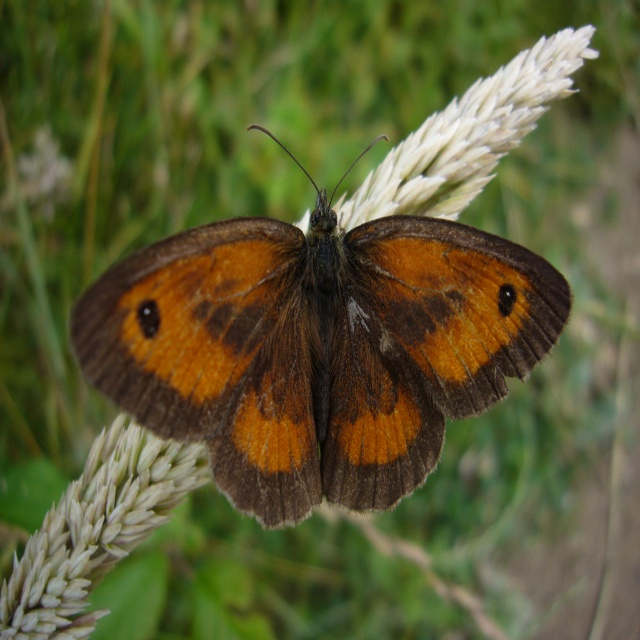Butterfly: (70, 124, 575, 531)
